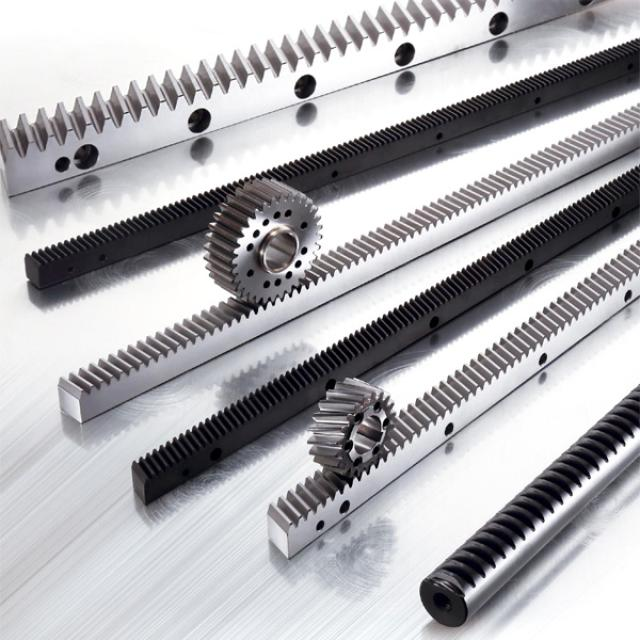Gear: (202, 179, 325, 304), (308, 376, 398, 477)
